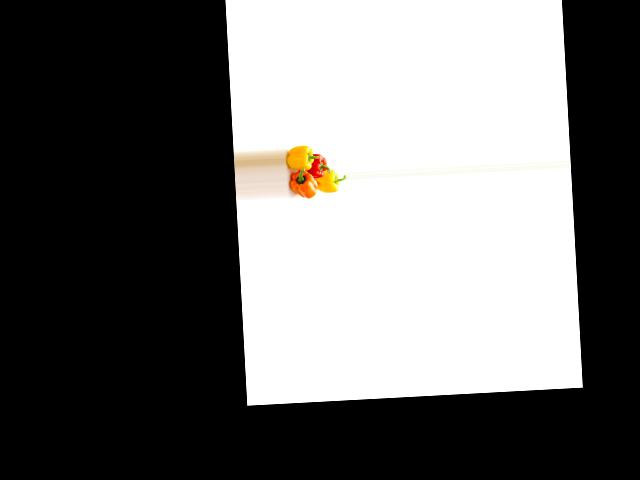bell_pepper: (285, 144, 319, 178)
